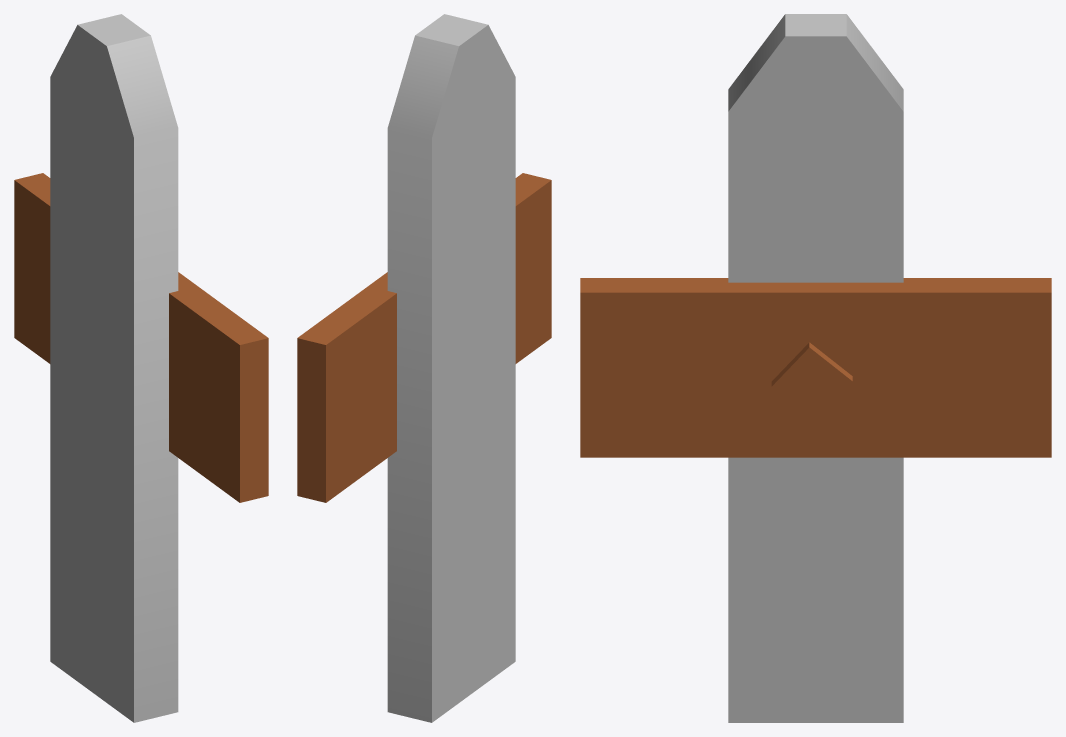
Rendered from fence.fbx.
The picture shows the model from 3 angles, left to right: view 1: azimuth 30°, elevation 25°; view 2: azimuth 150°, elevation 25°; view 3: azimuth 270°, elevation 25°; orthographic projection. The views are drawn at different scales.
Parts seen in each view (by area): view 1: Mesh; view 2: Mesh; view 3: Mesh.
Boxes of the visible parts, box(x1,y1,x2,y2) form: Mesh: box(14, 14, 268, 722); Mesh: box(297, 14, 551, 722); Mesh: box(580, 14, 1051, 722).
Size of the model in its own units: 10.83 by 92.1 by 57.35.
